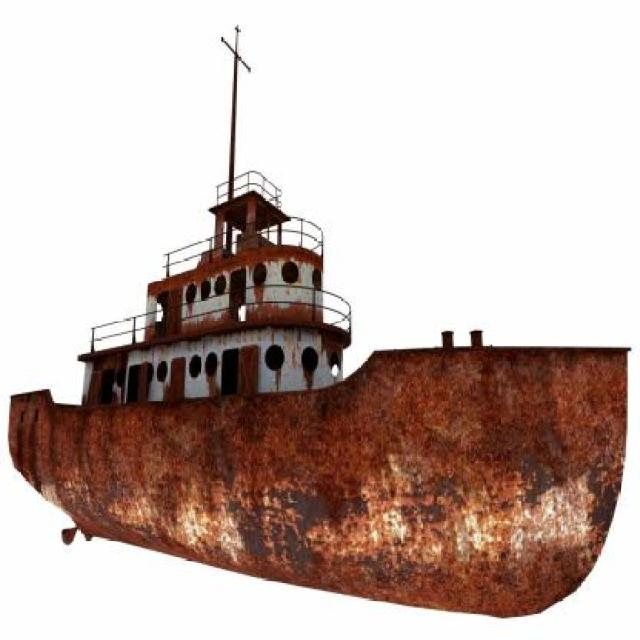corrosion: (10, 165, 628, 617)
